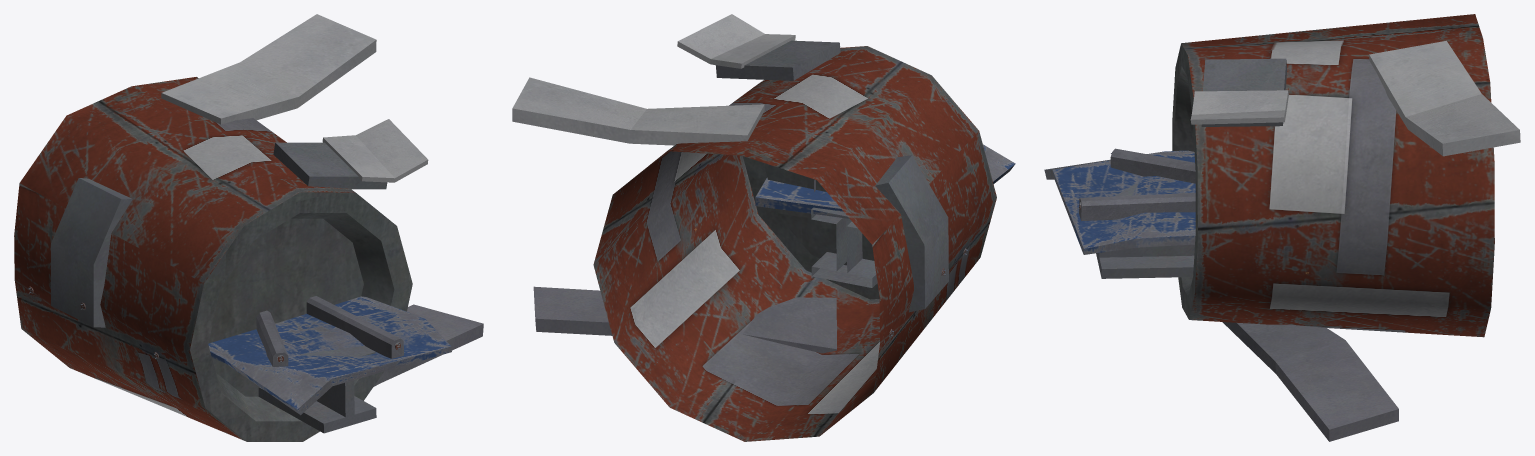
File: HCC15.fbx
3 renders of one model, left to right at view 1: azimuth 30°, elevation 25°; view 2: azimuth 150°, elevation 25°; view 3: azimuth 270°, elevation 25°, orthographic. The views are drawn at different scales.
Visible parts, largest first — view 1: fifteen1; view 2: fifteen1; view 3: fifteen1.
Boxes of the visible parts, x1,y1,x2,y2 form: fifteen1: (14,14,483,441); fifteen1: (512,14,1015,441); fifteen1: (1044,14,1520,441).
Bounding box in the file's own units: 4809 × 3270 × 4804.
1 material, 1 textured.
